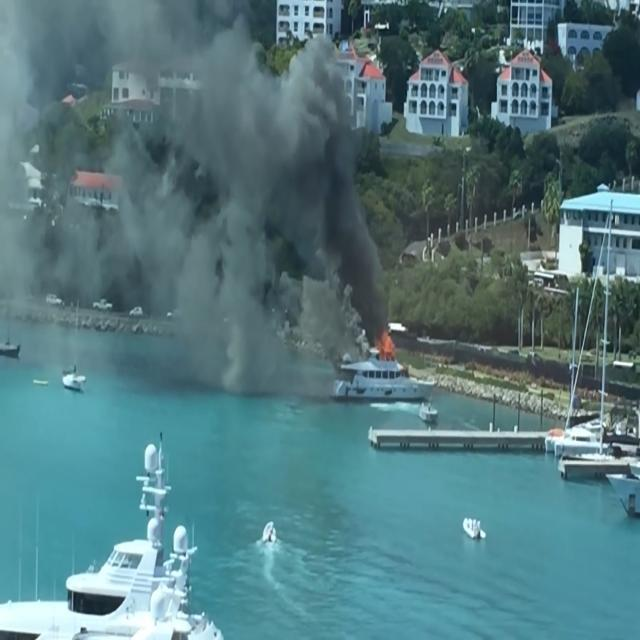Fire: (375, 326, 394, 368)
Smoke: (183, 15, 350, 236), (279, 52, 384, 348)
